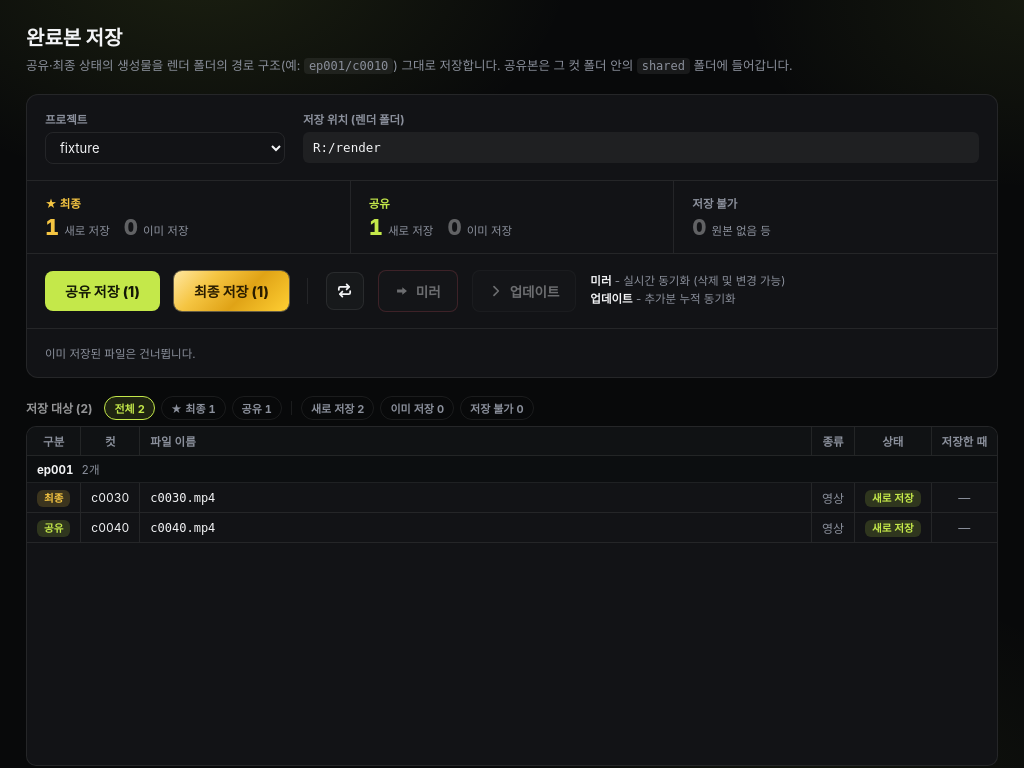
비교를 실행해야 미러·업데이트가 켜지고, 저장하면 다시 꺼진다
Expected: the button "업데이트" is disabled, [472,270,576,312]
Expected: the button "미러" is disabled, [378,270,458,312]
What coordinates should you click on to do the following:
click the button named "비교"
I would click on:
 (345, 291)
Its box is [326,272,364,310].
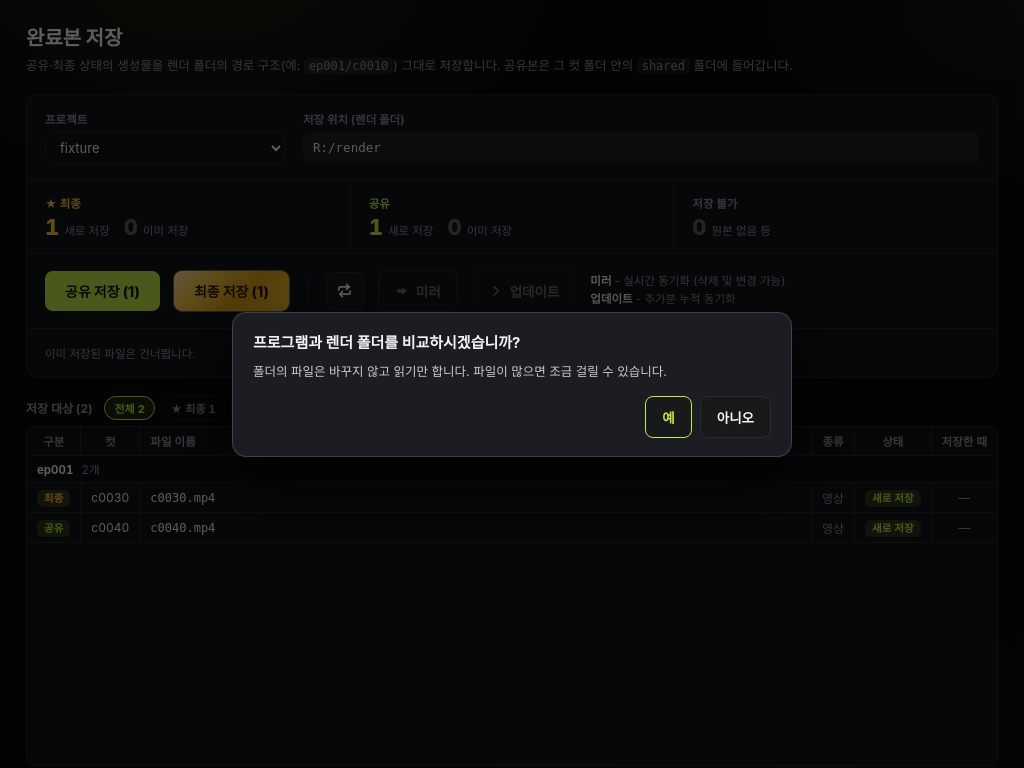
Now the heading "프로그램과 렌더 폴더를 비교하시겠습니까?" is shown, box [253,332,520,352]
What coordinates should you click on to do the following:
click the button "예"
I would click on:
 (668, 416)
Its box is [645,396,692,438].
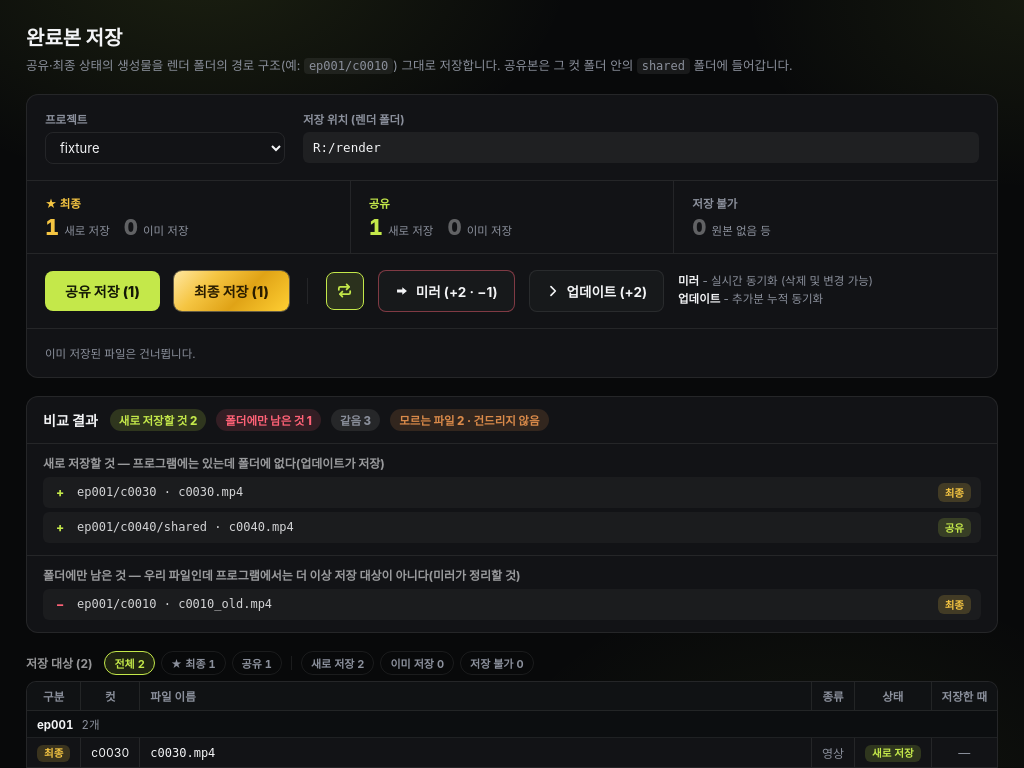
Now the button "업데이트 (+2)" is shown
Now the button "업데이트 (+2)" is enabled
Now the button "미러 (+2 · −1)" is shown, box [378,270,514,312]
What coordinates should you click on to do the following:
click the button "업데이트 (+2)"
I would click on:
 (596, 291)
Its box is [528,270,664,312].
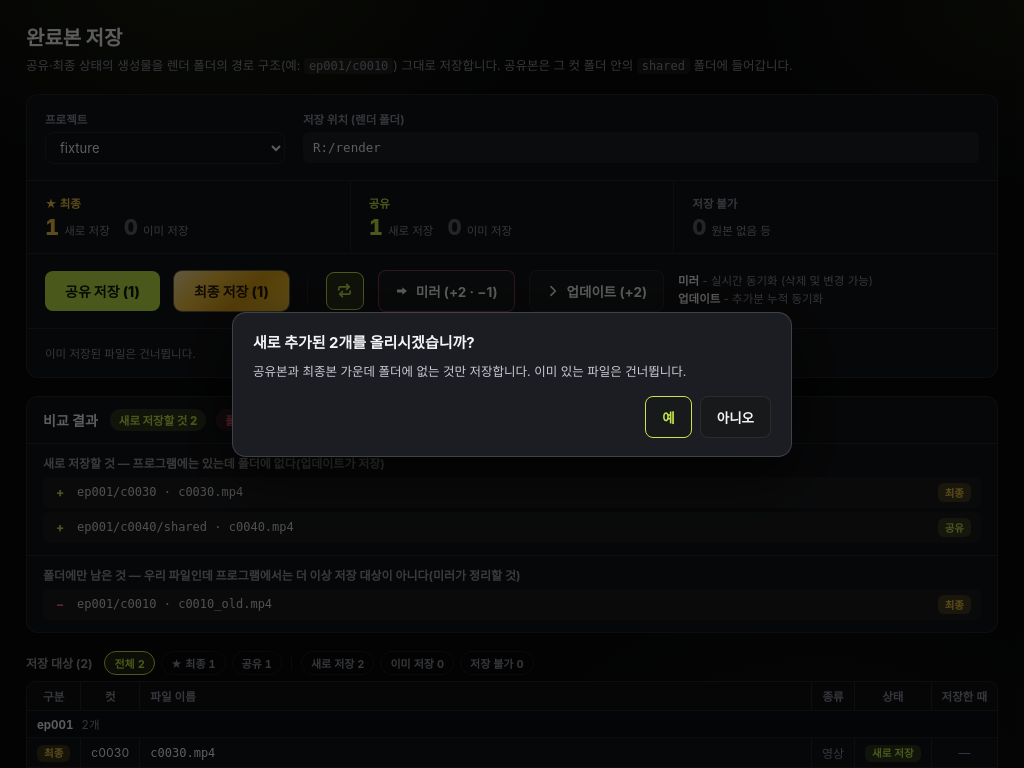
Now the heading "새로 추가된 2개를 올리시겠습니까?" is shown, box [253,332,475,352]
What coordinates should you click on to do the following:
click the button "예"
I would click on:
 (668, 416)
Its box is [645,396,692,438].
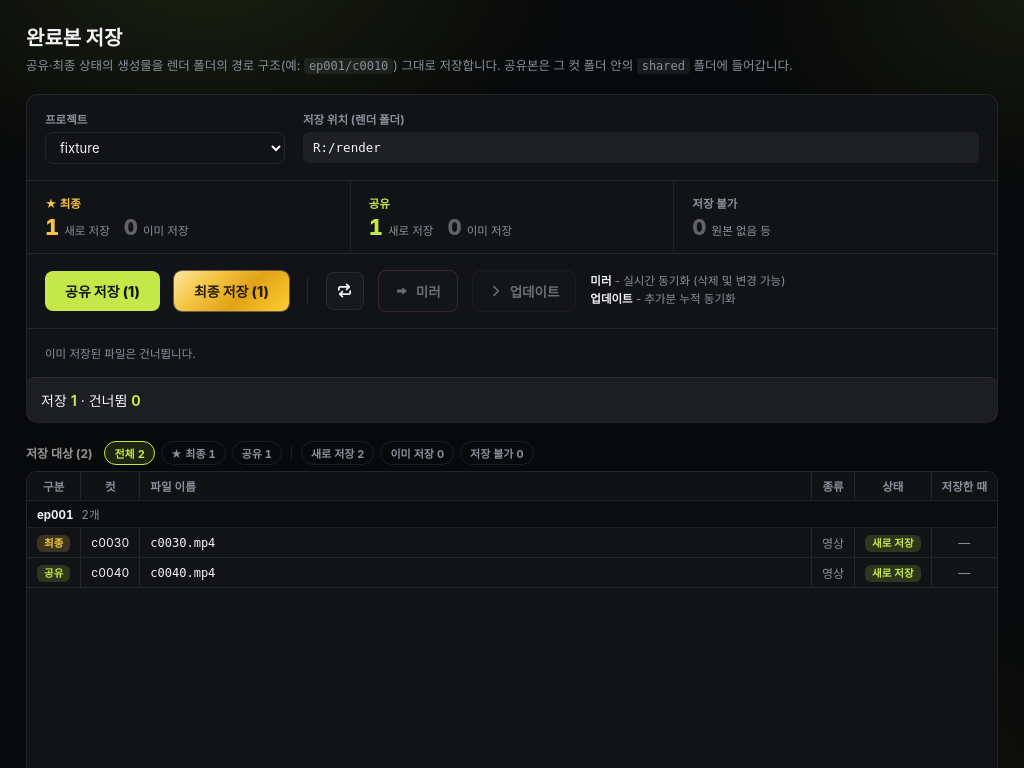
Now the element with class "export-compare" is gone
Now the button "업데이트" is disabled, box [472,270,576,312]
